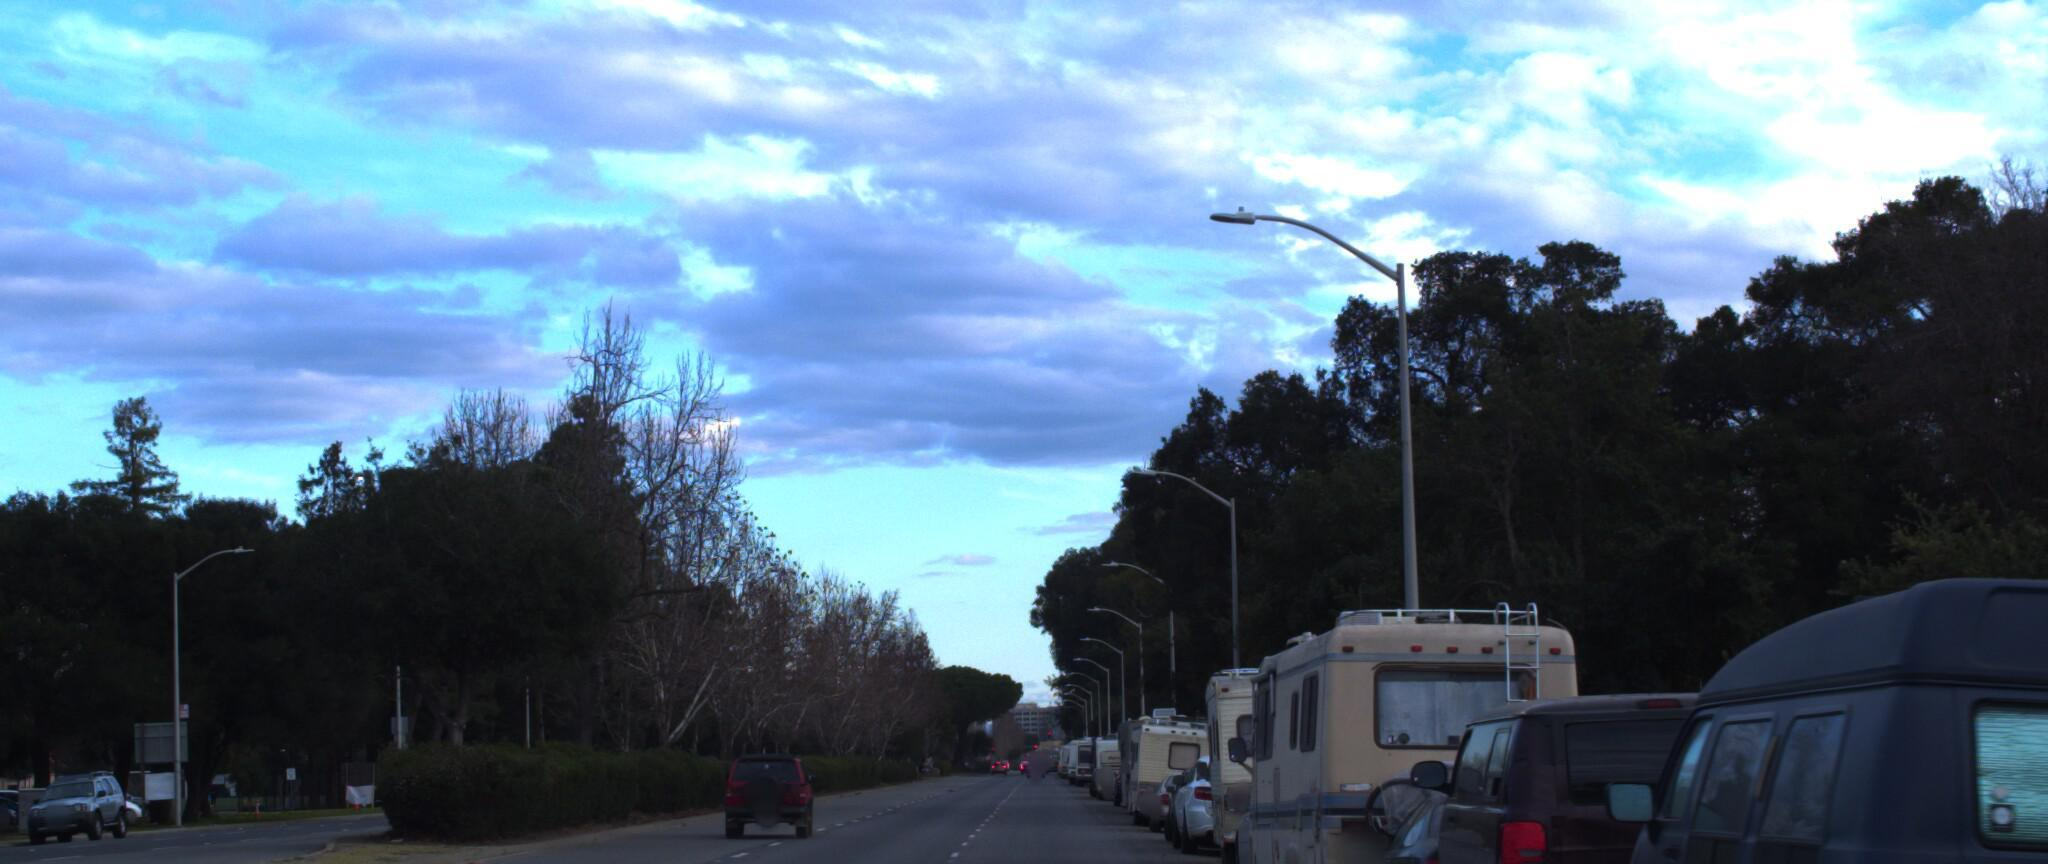car: (1546, 525, 2048, 864), (1392, 666, 1866, 864), (1347, 771, 1644, 864), (1157, 736, 1300, 843), (718, 737, 822, 831), (20, 766, 131, 834)
other_vehicle: (1225, 576, 1637, 864), (1196, 643, 1407, 864), (1109, 697, 1236, 812)
